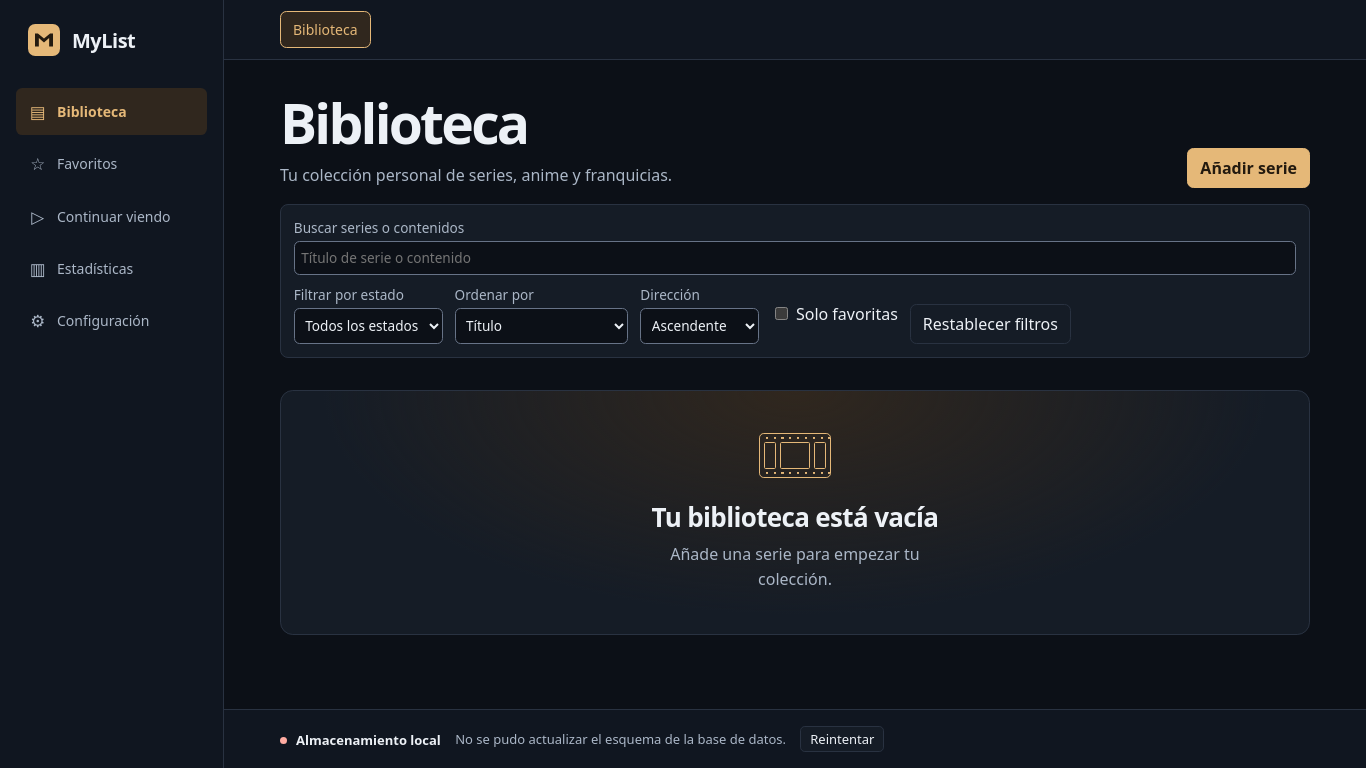
it: MyList › shows a safe message for a storage error and can recheck
The width and height of the screenshot is (1366, 768).
Later steps or results of the test are not shown.
Expected: the text "No se pudo actualizar el esquema de la base de datos." is shown, [455,730,786,748]
Click the button "Reintentar".
click(842, 739)  # box [800,726,884,752]
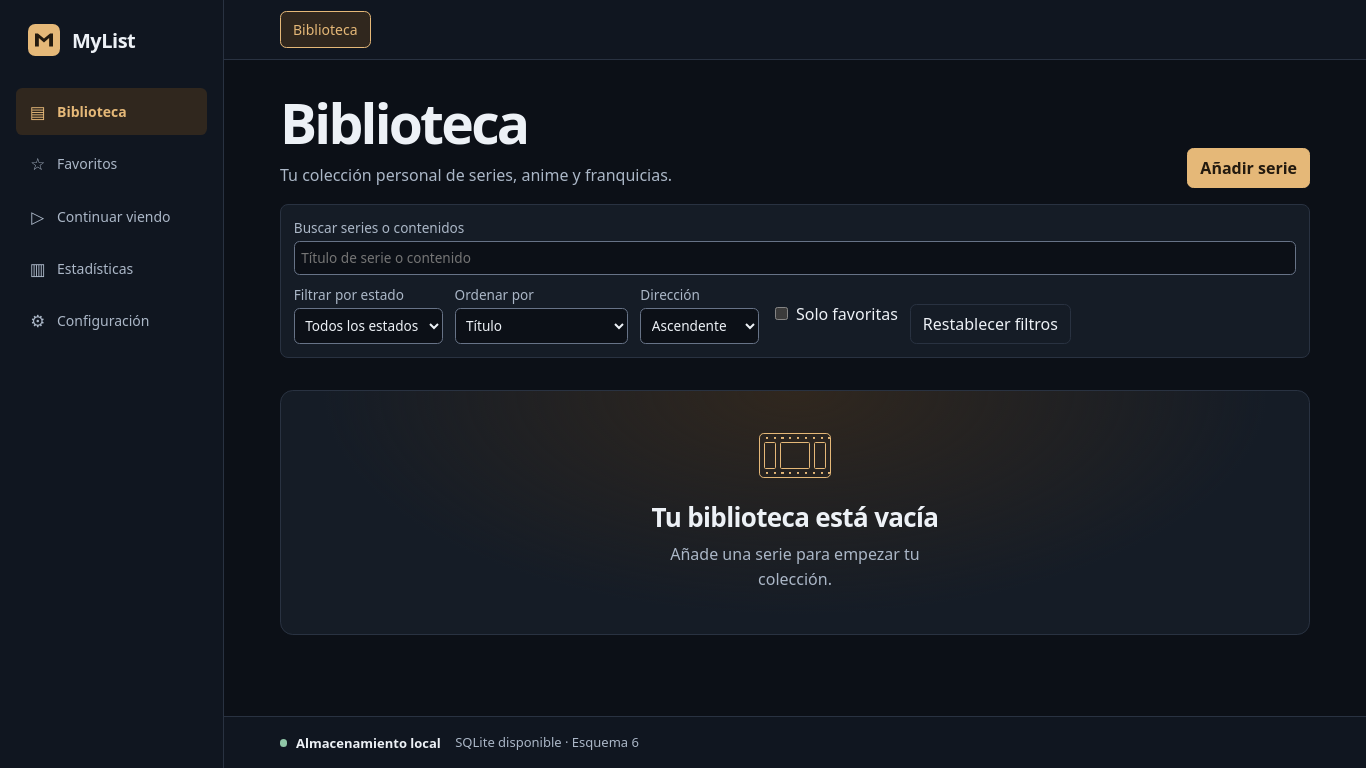
Expected: the text "SQLite disponible · Esquema 6" is shown, [455,733,639,751]
